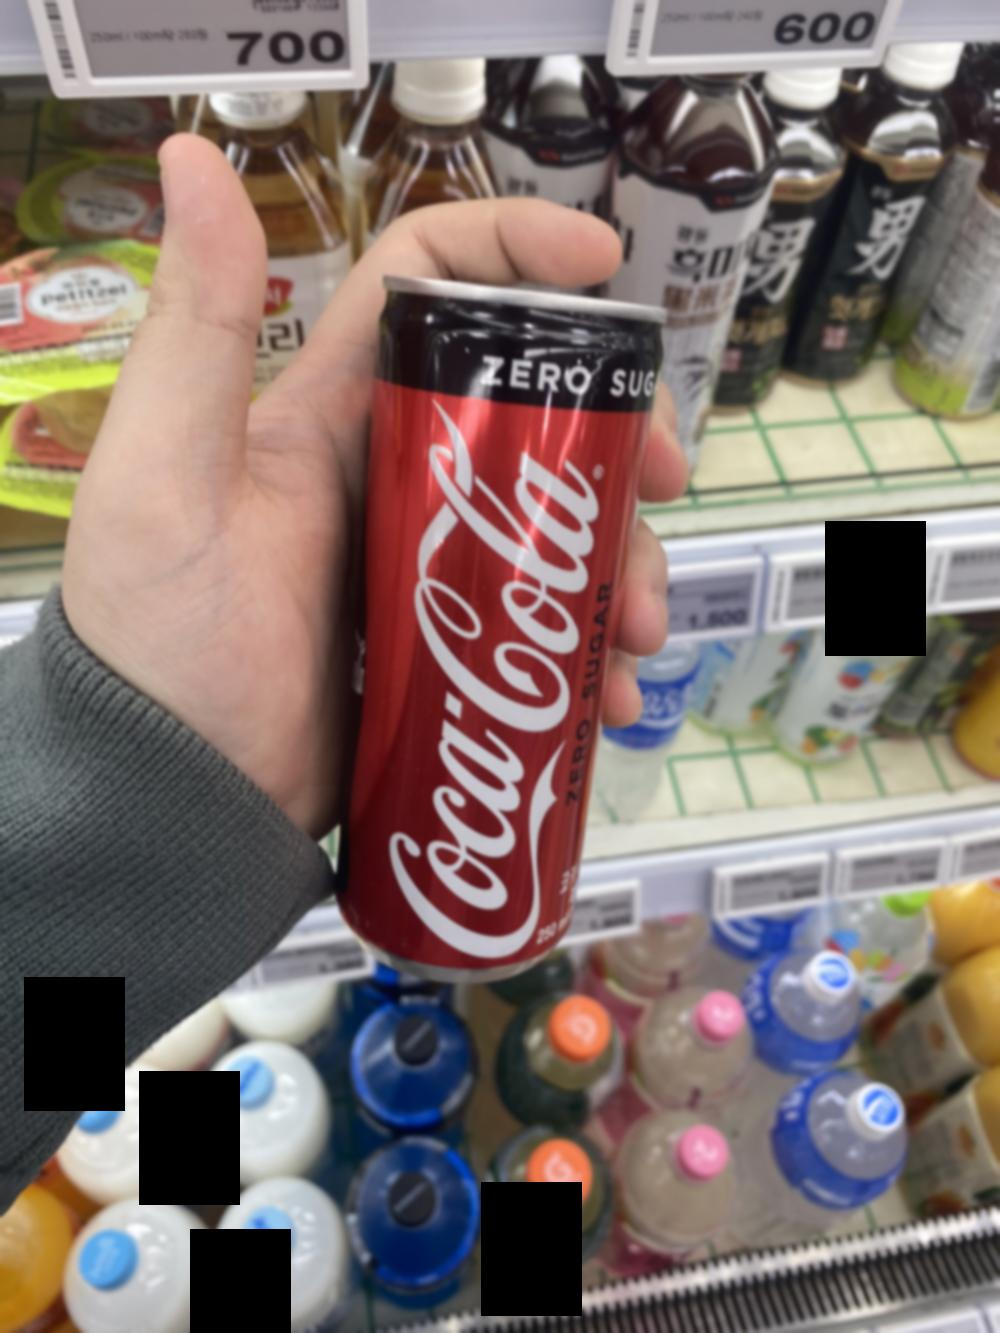cocacola_zero: (368, 272, 653, 974)
